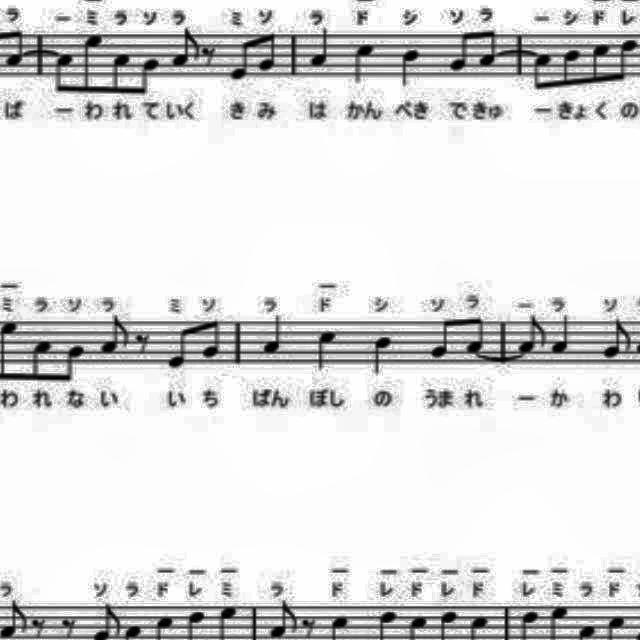Eighth-note: (98, 312, 134, 356), (600, 316, 636, 360), (79, 32, 103, 96), (228, 32, 256, 84), (472, 28, 500, 80), (428, 314, 457, 364), (170, 26, 202, 70), (518, 312, 550, 356), (198, 315, 226, 365), (166, 325, 194, 375), (264, 599, 298, 640), (28, 335, 54, 387), (614, 37, 640, 87), (1, 317, 20, 385), (586, 44, 614, 90), (257, 28, 283, 76), (136, 54, 164, 98), (462, 314, 490, 356), (62, 341, 86, 389), (1, 26, 27, 70), (110, 51, 134, 98), (448, 27, 472, 73), (528, 52, 552, 98), (50, 53, 74, 95), (559, 47, 583, 89)
Eighth-rest: (130, 326, 152, 358), (197, 40, 219, 72)
Quarter-note: (257, 311, 289, 365), (312, 326, 344, 374), (349, 40, 381, 88), (306, 27, 334, 75), (368, 332, 397, 376), (396, 48, 424, 92), (549, 310, 573, 360)
